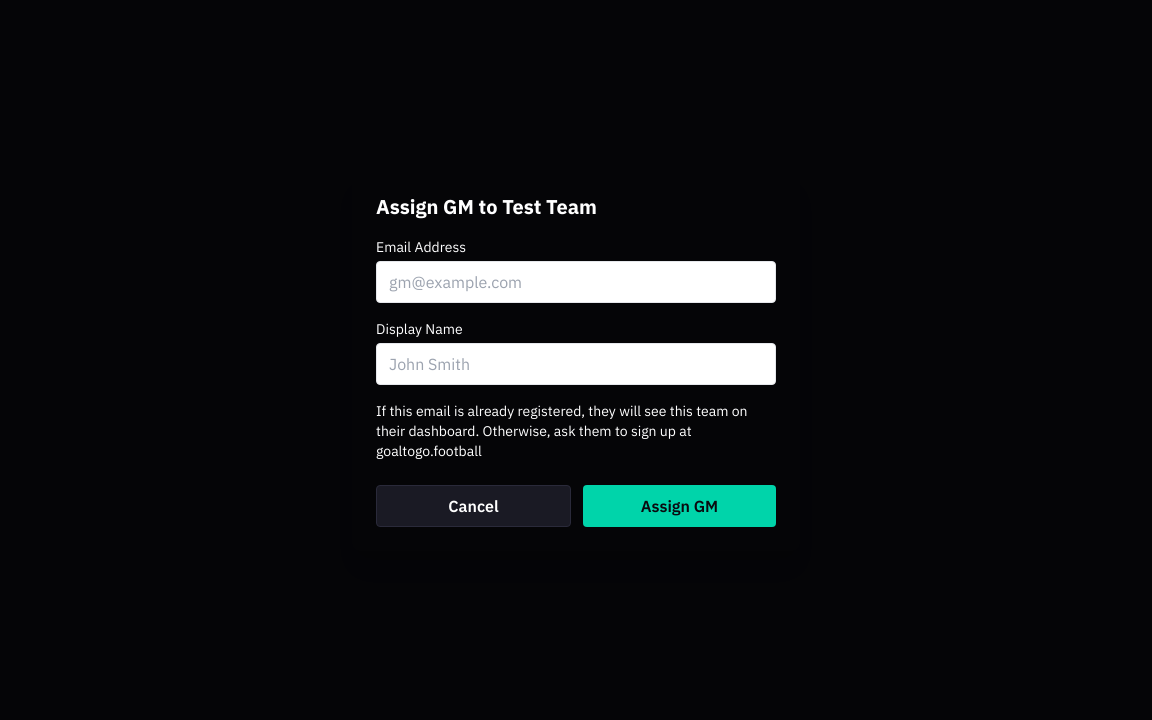
Test: AssignGmModal › Form Validation › shows error when email is empty
Type "John Doe" into the field labelled "Display Name" at (576, 364), box x1=376 y1=343 x2=776 y2=385
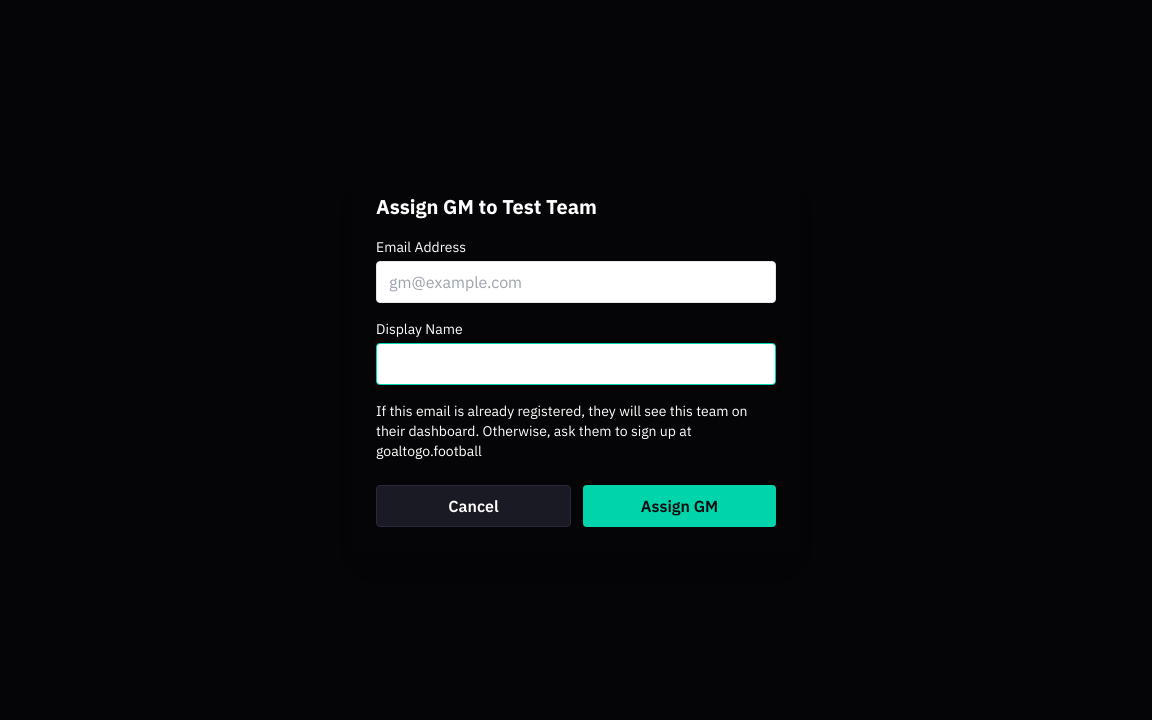
Click the button "Assign GM" at (680, 506), box x1=583 y1=485 x2=776 y2=527
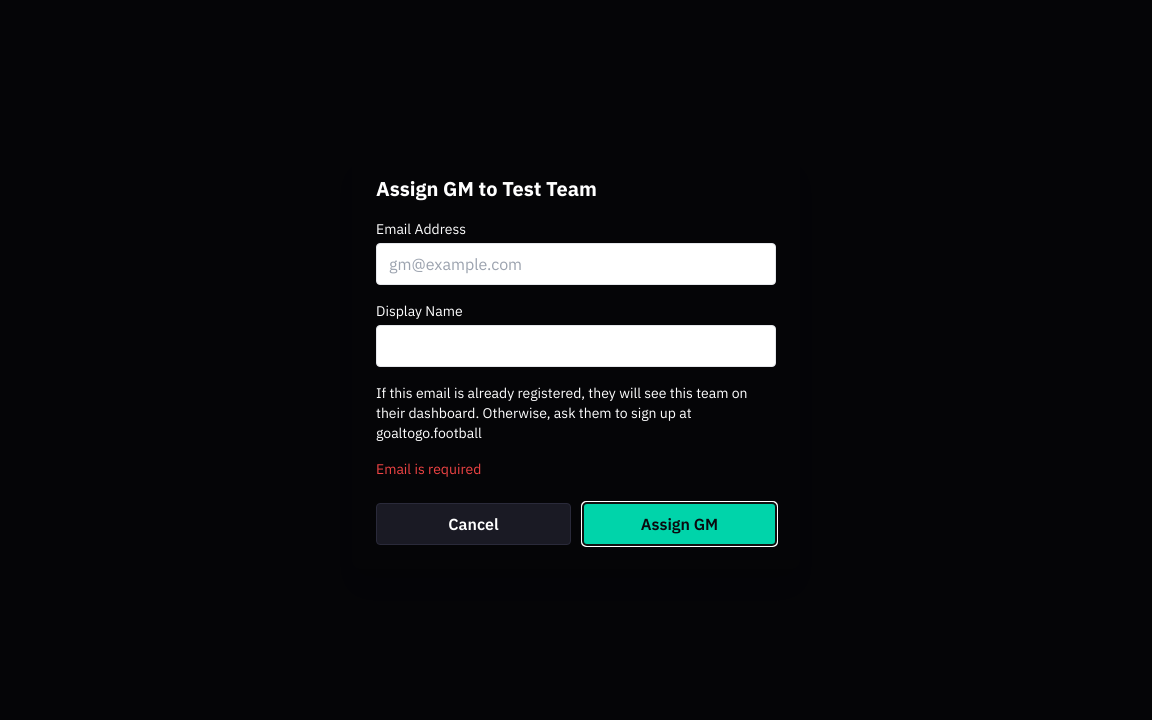
Result: the message reads "Email is required" at x1=376 y1=460 x2=481 y2=478
